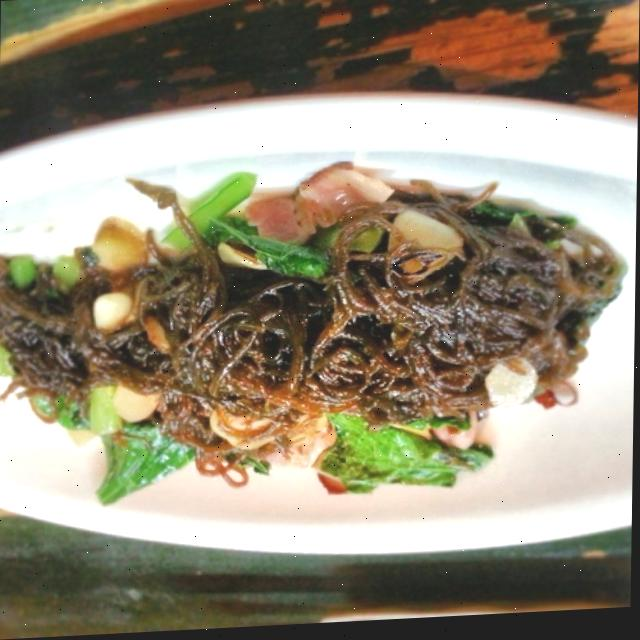蔬菜料理: (7, 122, 611, 557)
